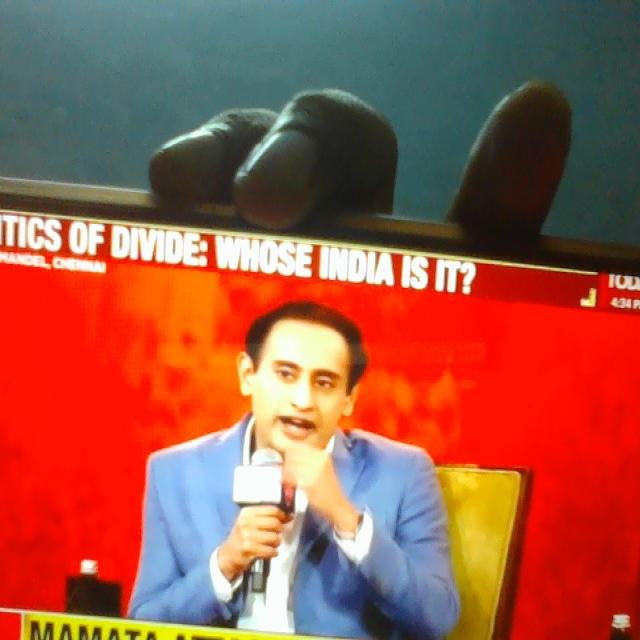fake: (249, 279, 360, 489)
